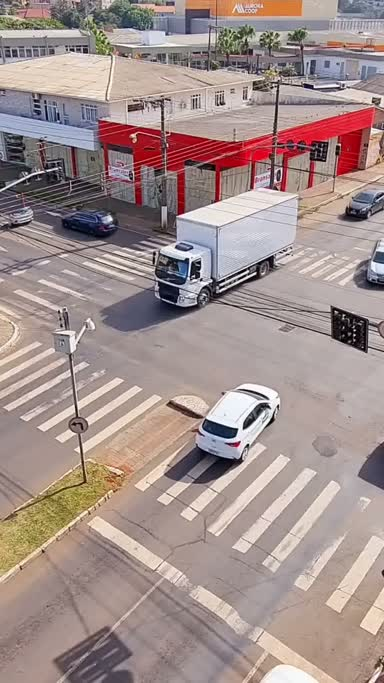car: (189, 375, 283, 469), (61, 208, 122, 241), (335, 183, 384, 222), (1, 187, 32, 237), (368, 237, 384, 294)
truck: (148, 183, 300, 309)
